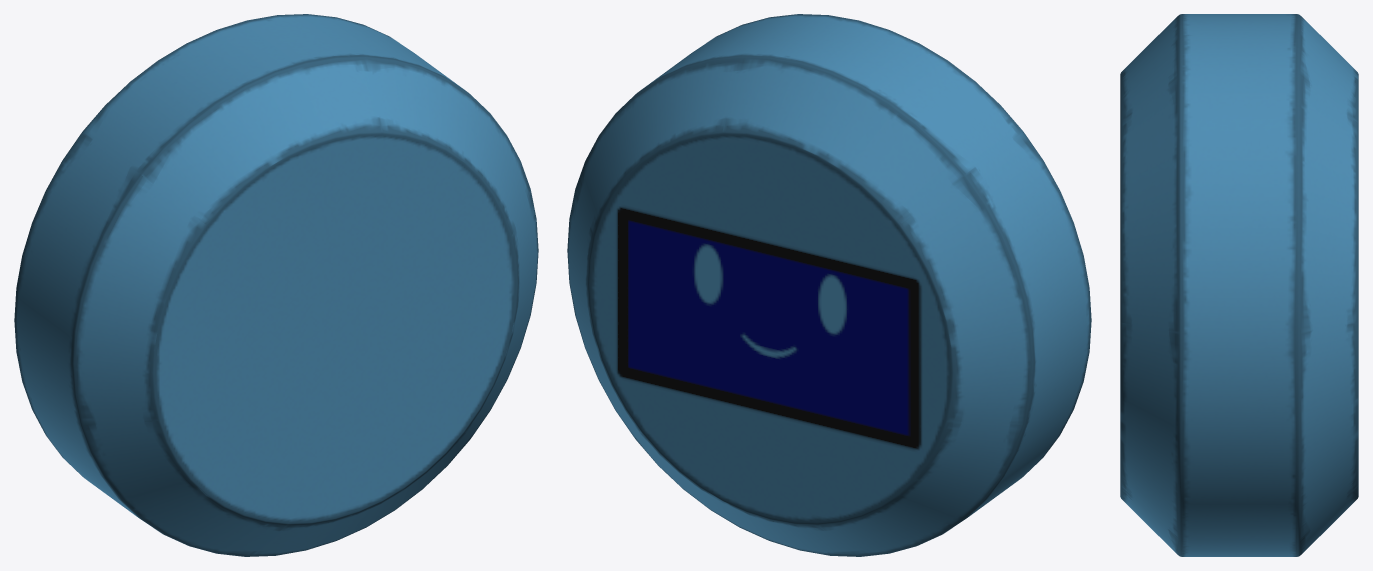
File: Player_head.gltf
The picture shows the model from 3 angles, left to right: view 1: azimuth 30°, elevation 25°; view 2: azimuth 150°, elevation 25°; view 3: azimuth 270°, elevation 25°; orthographic projection.
Visible parts, largest first — view 1: player_head; view 2: player_head; view 3: player_head.
Boxes of the visible parts, <box> form: player_head: <box>14,14,538,556</box>; player_head: <box>567,14,1091,556</box>; player_head: <box>1120,14,1358,556</box>.
Bounding box in the file's own units: 0.5226 × 0.5226 × 0.2294.
Materials: 1 (1 with a texture image).
